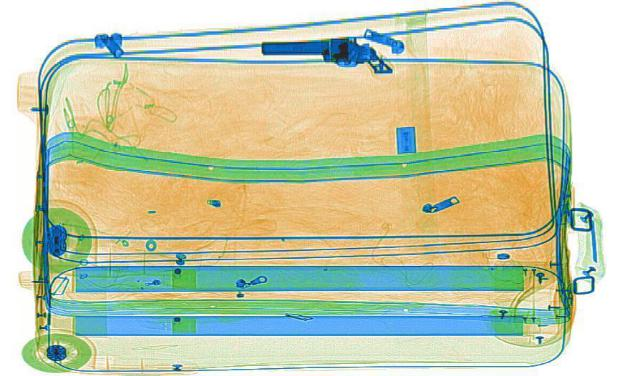Gun: (258, 36, 394, 73)
